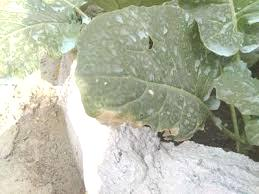Bok-Choy-Diseased: (76, 14, 224, 131)
